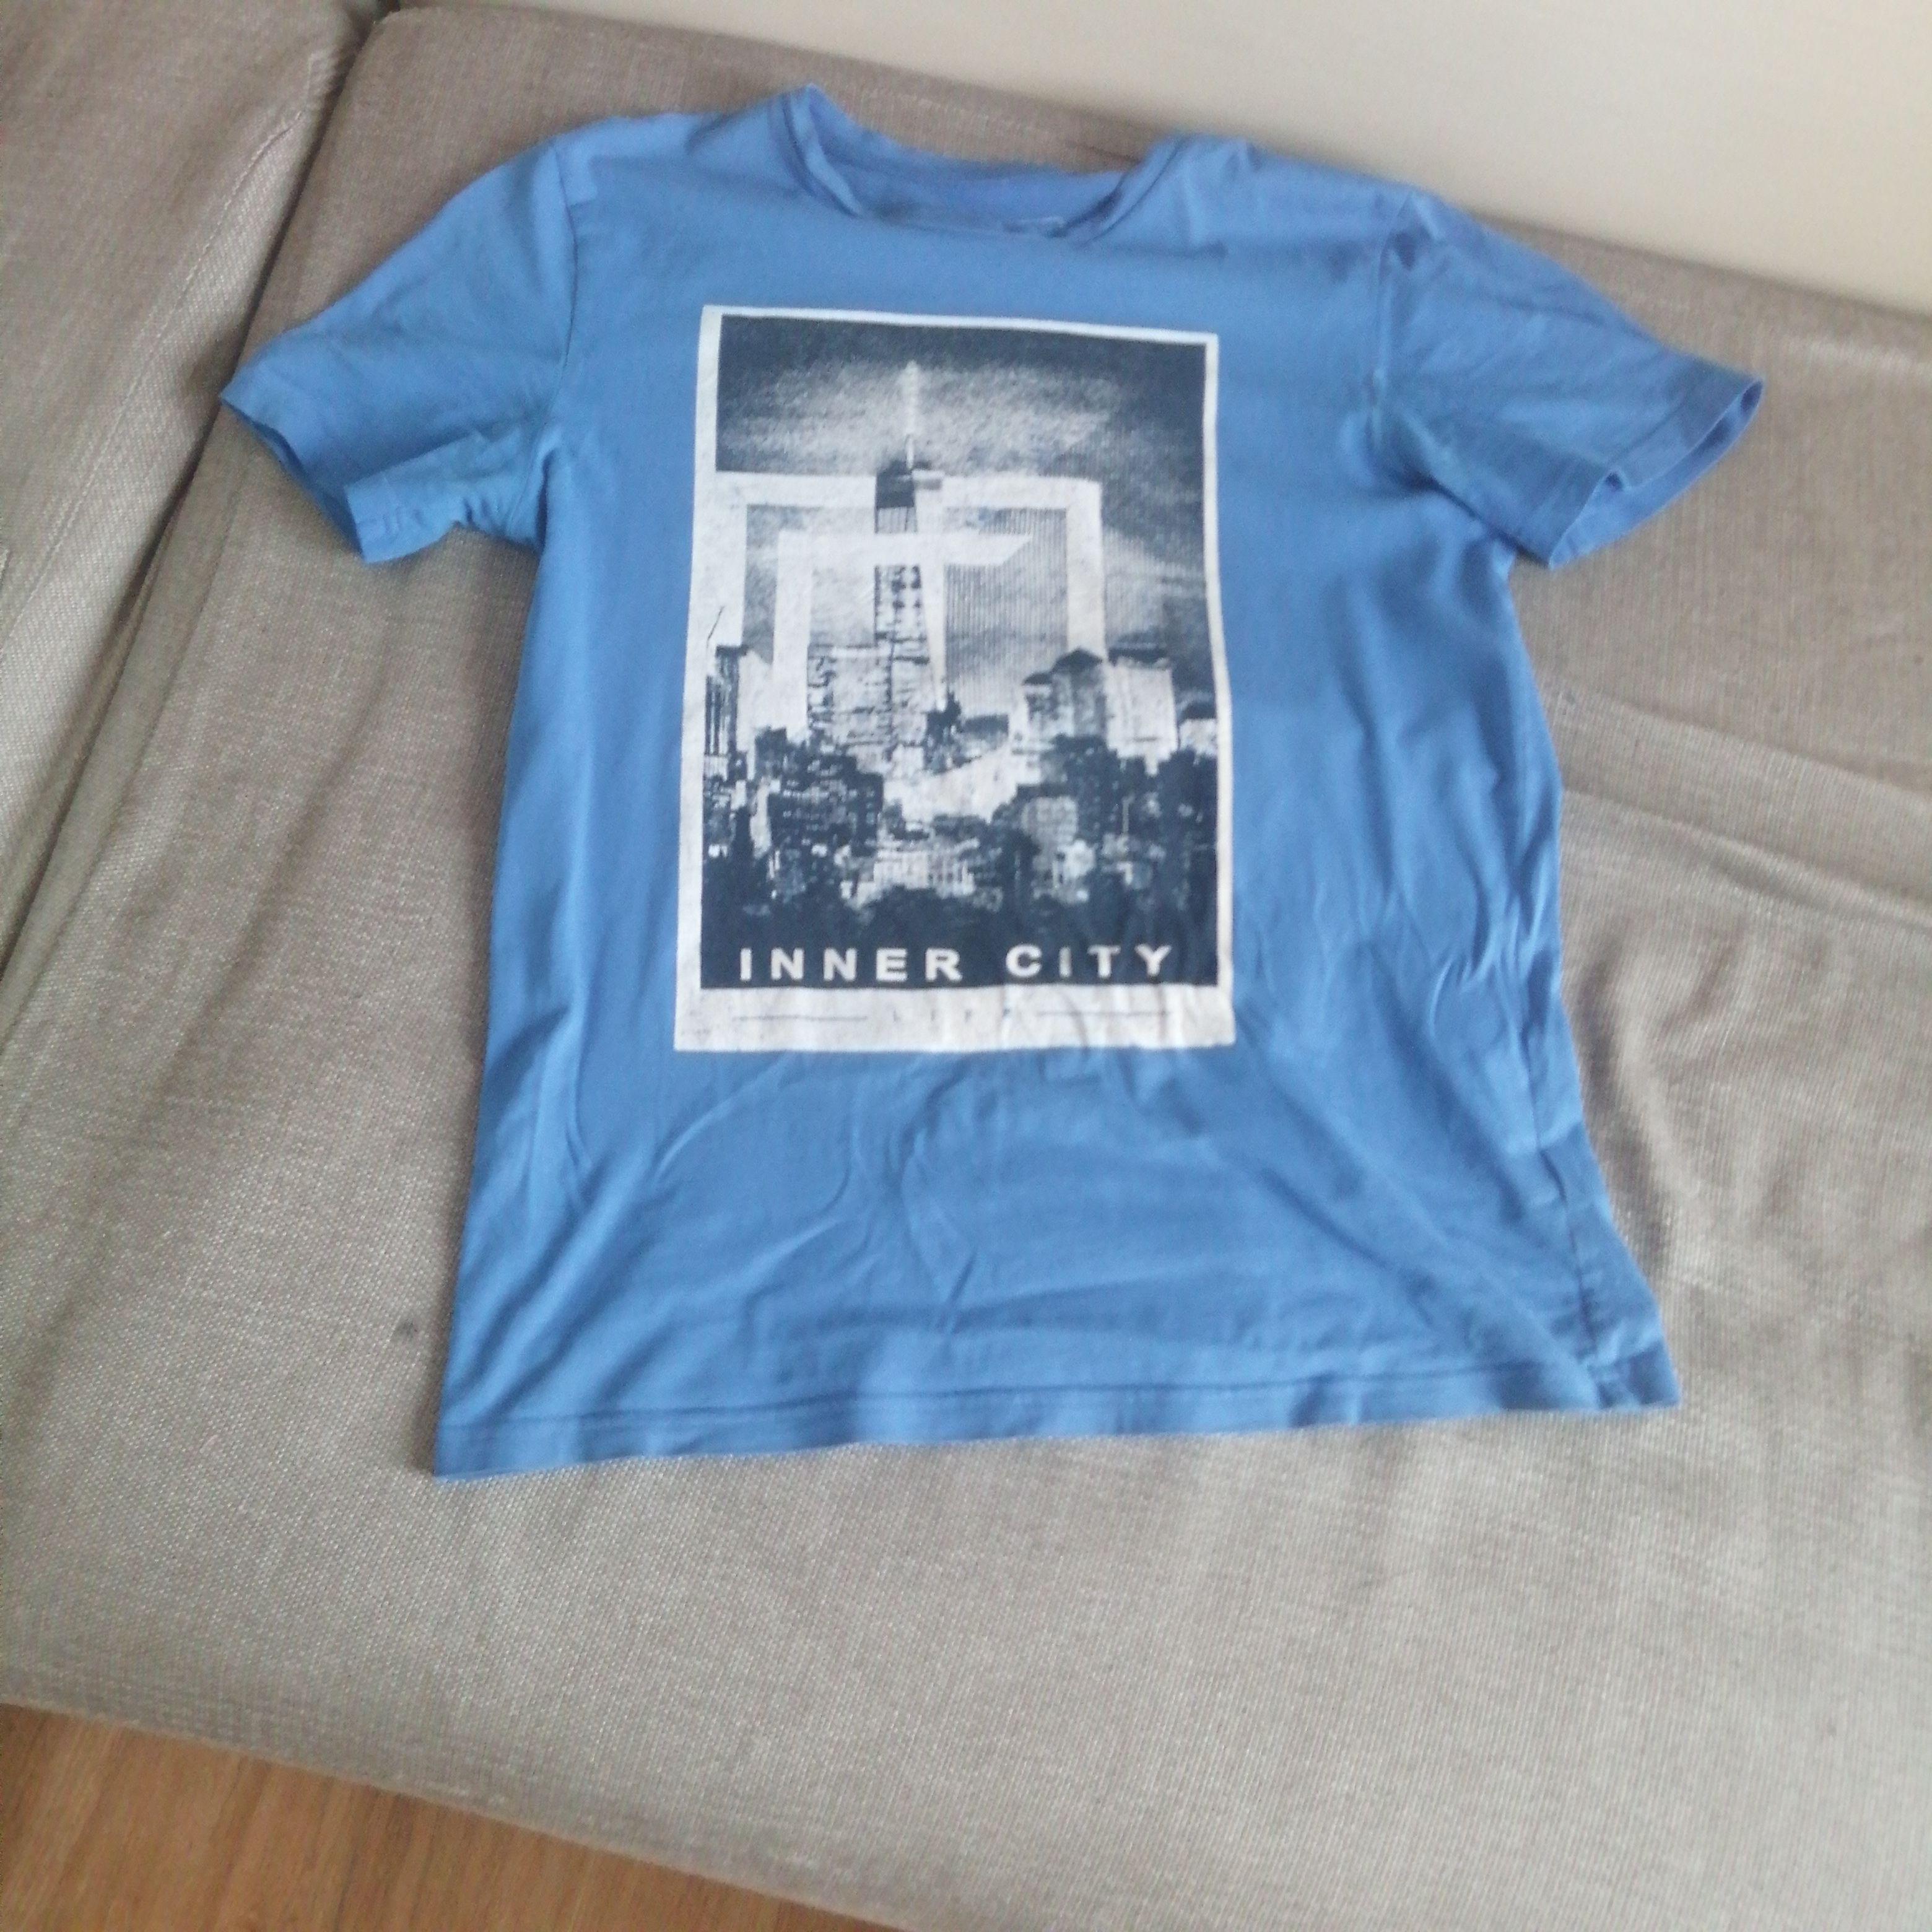clothes: (246, 96, 1743, 1451)
